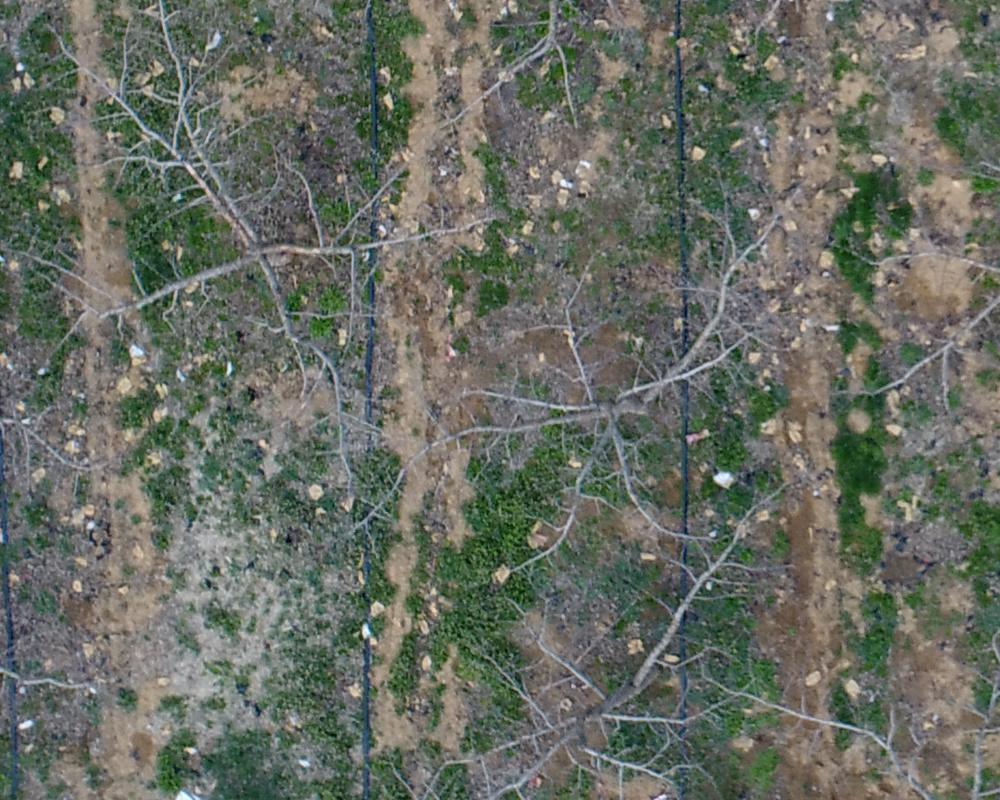apple: (27, 10, 537, 450), (354, 190, 821, 570), (381, 488, 796, 790), (825, 94, 990, 504)
